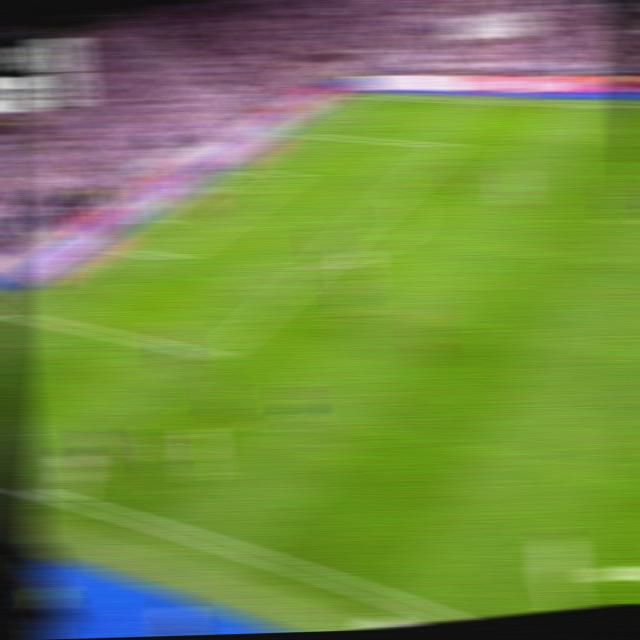bigarea_bottom_inner: (200, 341, 231, 367)
bigarea_bottom_outter: (1, 305, 26, 320)
bigarea_top_inner: (437, 139, 460, 152)
bigarea_top_outter: (287, 127, 311, 137)
bottom_arc_area_intersection: (302, 256, 330, 274)
corner: (345, 90, 368, 99)
smallarea_bottom_inner: (161, 248, 188, 266)
smallarea_top_inner: (278, 170, 300, 180)
top_arc_area_intersection: (382, 185, 408, 202)
